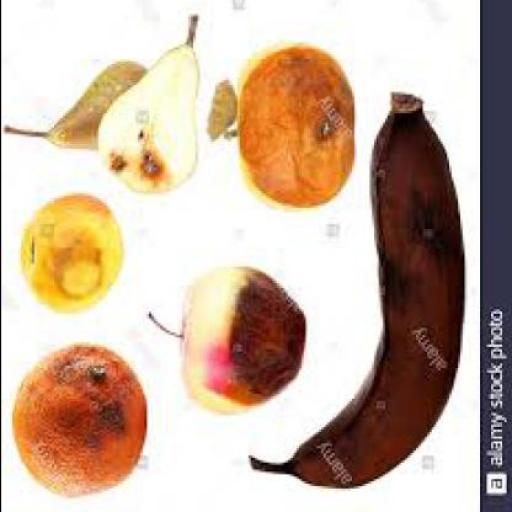biodegradable: (245, 97, 461, 488), (145, 272, 303, 416), (4, 344, 144, 500), (234, 48, 353, 212), (93, 16, 196, 198), (1, 60, 150, 159), (15, 196, 119, 314), (203, 82, 234, 142)
